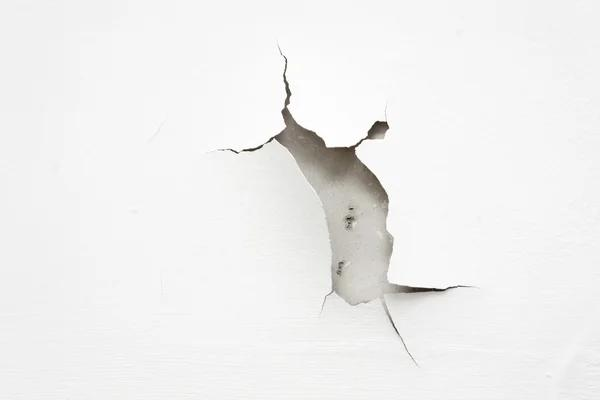Crack: (205, 40, 478, 365)
